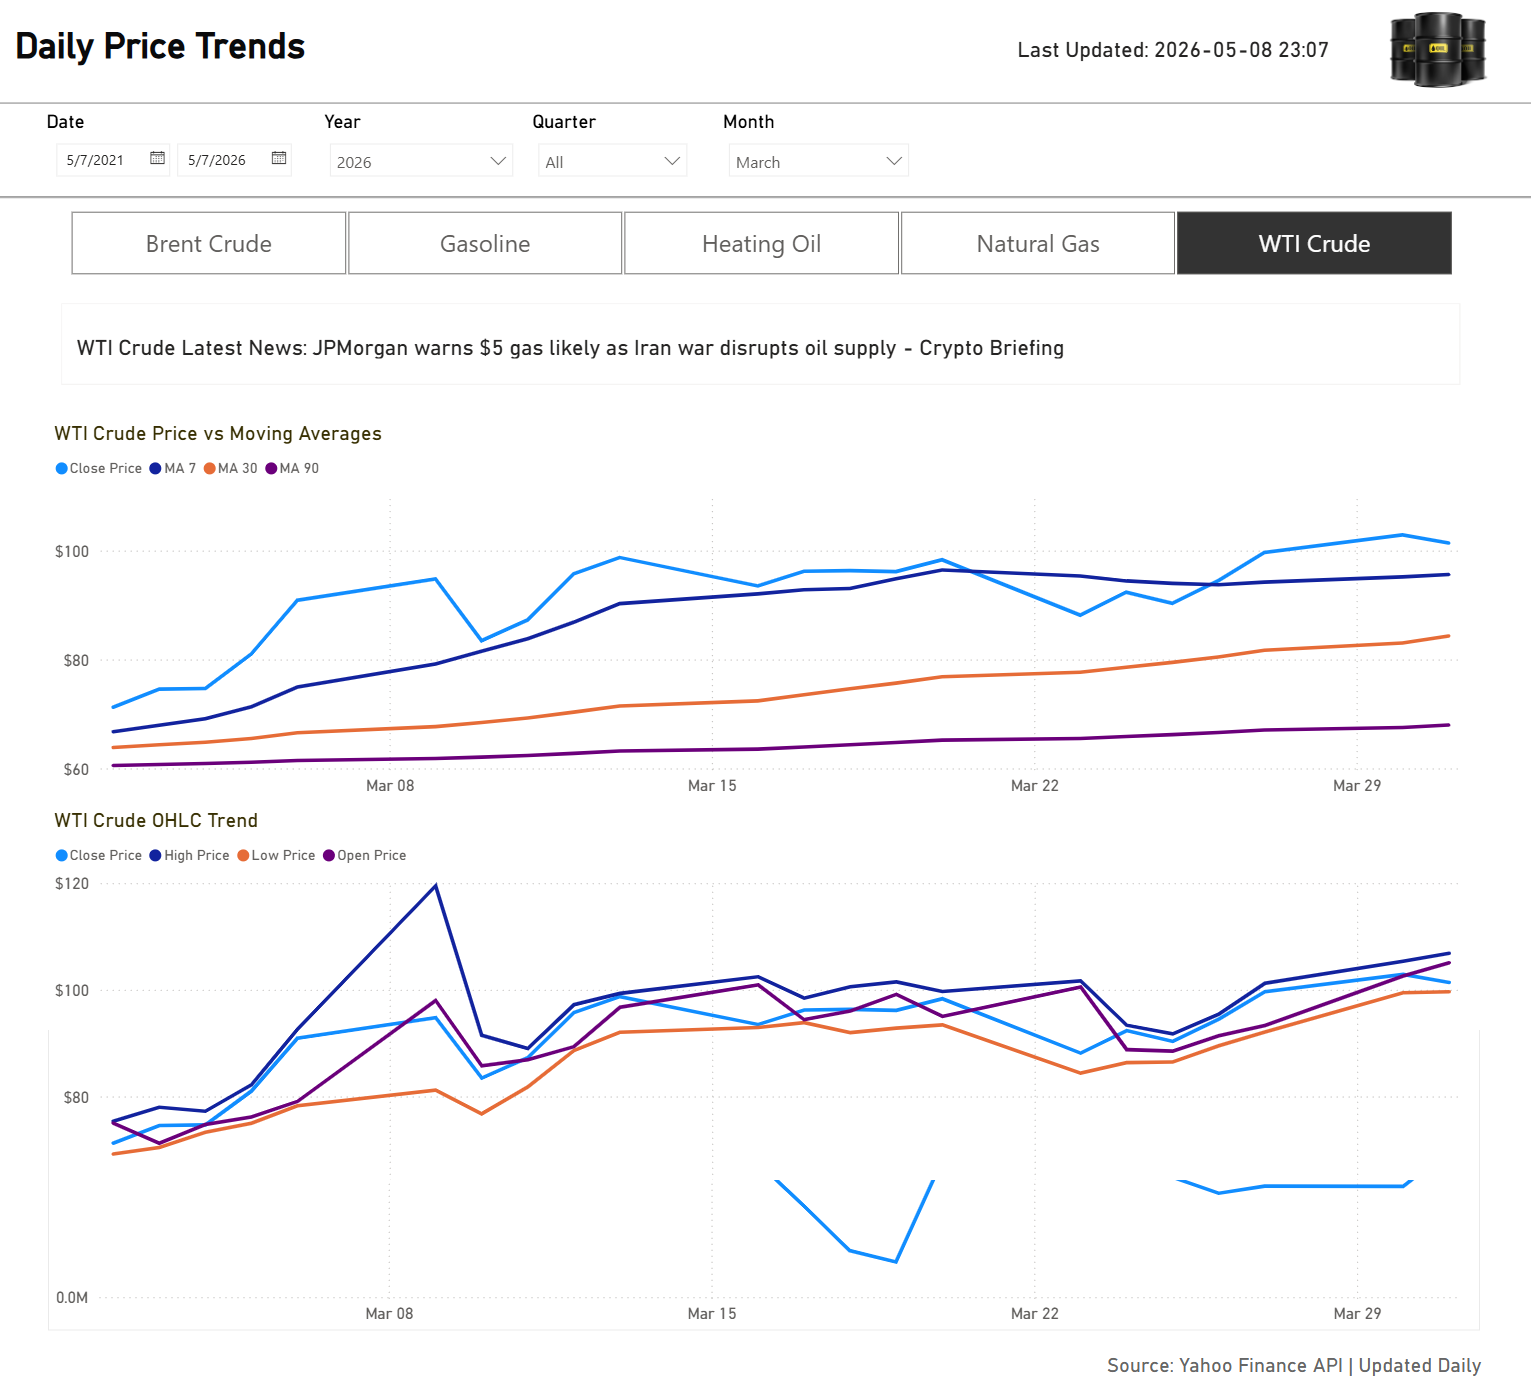

Layout of this report page (visuals, bound fields, positions):
{"tool":"powerbi","page":{"name":"Daily Price Trends","canvas":[1280,1450],"ordinal":1},"visuals":[{"type":"shape","box":[0,167.5,1280,1282.5],"z":0},{"type":"image","box":[1126.2,0,153.8,90],"z":1000},{"type":"shape","box":[0,0,1280,90],"z":2000},{"type":"shape","box":[0,88.8,1280,79],"z":3000},{"type":"lineChart","fields":{"Category":["dim_date.full_date.Variation.Date Hierarchy.Year","dim_date.full_date.Variation.Date Hierarchy.Quarter","dim_date.full_date.Variation.Date Hierarchy.Month","dim_date.full_date.Variation.Date Hierarchy.Day"],"Y":["Indicators.Close Price","Indicators.MA 7","Indicators.MA 30","Indicators.MA 90"]},"box":[42.9,353.3,1192.9,318.6],"z":4000},{"type":"slicer","title":"Date","fields":{"Values":["dim_date.full_date"]},"box":[36.5,94.7,218.3,63.3],"z":5000},{"type":"textbox","title":"Daily Price Trends","box":[10,23.3,531.1,38.9],"z":6000},{"type":"slicer","title":"Year","fields":{"Values":["dim_date.full_date.Variation.Date Hierarchy.Year"]},"box":[267.5,95,172.5,62.5],"z":7000},{"type":"slicer","title":"Quarter","fields":{"Values":["dim_date.full_date.Variation.Date Hierarchy.Quarter"]},"box":[441,95,143.8,62.5],"z":8000},{"type":"slicer","title":"Month","fields":{"Values":["dim_date.full_date.Variation.Date Hierarchy.Month"]},"box":[599.8,95,170,62.5],"z":9000},{"type":"cardVisual","fields":{"Data":["Indicators.Last Refresh"]},"box":[821.2,15,331.2,57.5],"z":10000},{"type":"slicer","title":"Commodity","fields":{"Values":["dim_commodity.commodity_name"]},"box":[36.2,172.5,1200,66.2],"z":11000},{"type":"lineChart","fields":{"Category":["dim_date.full_date.Variation.Date Hierarchy.Year","dim_date.full_date.Variation.Date Hierarchy.Quarter","dim_date.full_date.Variation.Date Hierarchy.Month","dim_date.full_date.Variation.Date Hierarchy.Day"],"Y":["Indicators.Close Price","Indicators.High Price","Indicators.Low Price","Indicators.Open Price"]},"box":[42.9,676.2,1193.3,358.3],"z":12000},{"type":"lineChart","fields":{"Category":["dim_date.full_date.Variation.Date Hierarchy.Year","dim_date.full_date.Variation.Date Hierarchy.Quarter","dim_date.full_date.Variation.Date Hierarchy.Month","dim_date.full_date.Variation.Date Hierarchy.Day"],"Y":["Indicators.Total Volume"]},"box":[42.9,1038.4,1193.3,358.3],"z":13000},{"type":"cardVisual","fields":{"Data":["Indicators.Latest News Text"]},"box":[36.2,238.8,1200,102.5],"z":14000},{"type":"textbox","title":"Source: Yahoo Finance API | Updated Daily","box":[920,1415,357.5,28.8],"z":15000}]}

Visuals, with their boxes on the page's 1280x1450 design canvas (x1, y1, x2, y2). These are canvas units, not pixel positions in the 1531x1380 screenshot, which may show the page scaled, cropped or inside an application window:
shape: 0/168/1280/1450
image: 1126/0/1280/90
shape: 0/0/1280/90
shape: 0/89/1280/168
lineChart - dim_date.full_date.Variation.Date Hierarchy.Year x dim_date.full_date.Variation.Date Hierarchy.Quarter: 43/353/1236/672
"Date" slicer: 36/95/255/158
"Daily Price Trends" textbox: 10/23/541/62
"Year" slicer: 268/95/440/158
"Quarter" slicer: 441/95/585/158
"Month" slicer: 600/95/770/158
cardVisual - Indicators.Last Refresh: 821/15/1152/72
"Commodity" slicer: 36/172/1236/239
lineChart - dim_date.full_date.Variation.Date Hierarchy.Year x dim_date.full_date.Variation.Date Hierarchy.Quarter: 43/676/1236/1034
lineChart - dim_date.full_date.Variation.Date Hierarchy.Year x dim_date.full_date.Variation.Date Hierarchy.Quarter: 43/1038/1236/1397
cardVisual - Indicators.Latest News Text: 36/239/1236/341
"Source: Yahoo Finance API | Updated Daily" textbox: 920/1415/1278/1444
